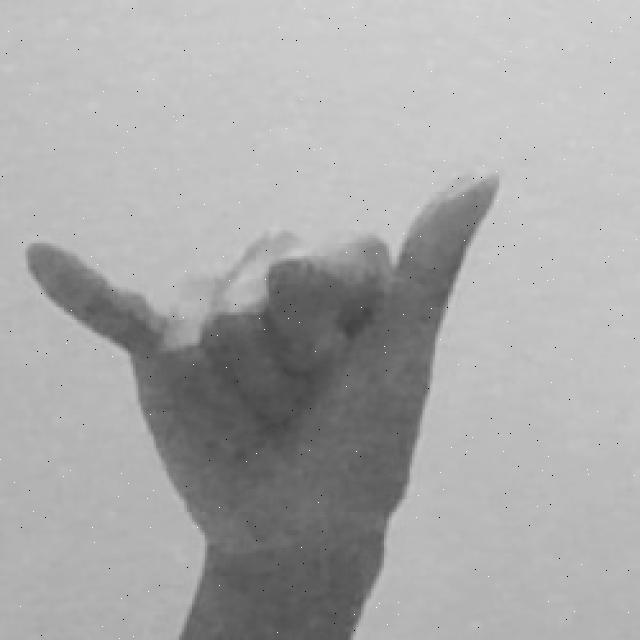Y: (20, 161, 507, 640)
